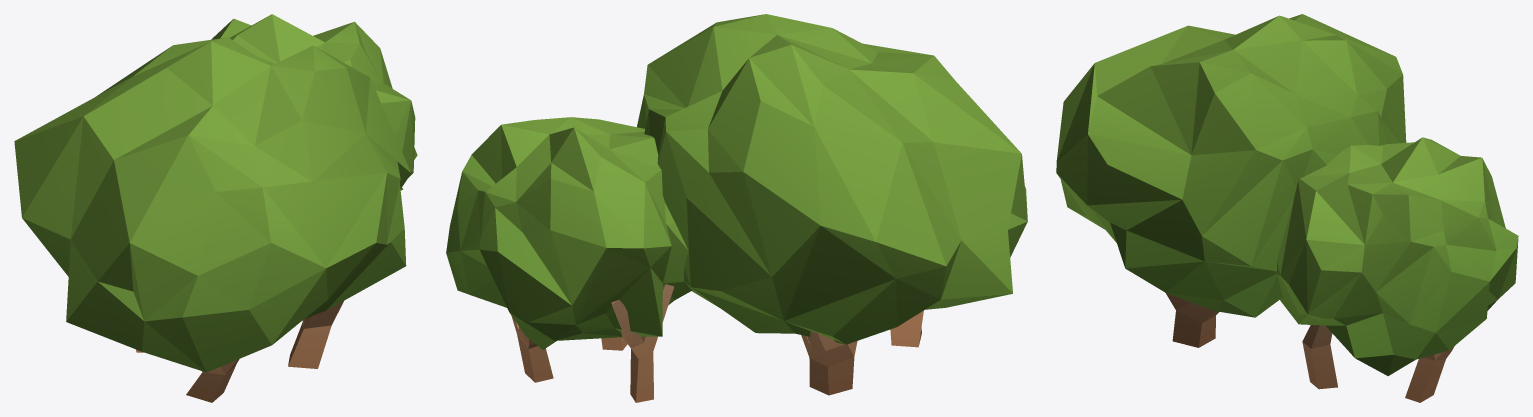
Rendered from Bush_group_small.fbx.
3 views of the same model, side by side, from view 1: azimuth 30°, elevation 25°; view 2: azimuth 150°, elevation 25°; view 3: azimuth 270°, elevation 25° (orthographic). The views are drawn at different scales.
Visible parts, largest first — view 1: Bush_group_small; view 2: Bush_group_small; view 3: Bush_group_small.
Part boxes in pixels (x1,y1,x2,y2): Bush_group_small: [14, 14, 417, 402]; Bush_group_small: [446, 14, 1027, 402]; Bush_group_small: [1056, 14, 1518, 402].
Bounding box in the file's own units: 3.02 × 2.01 × 2.8.
